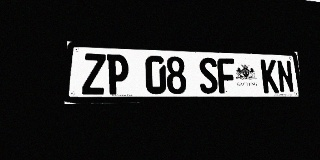0: (145, 55, 166, 94)
8: (166, 56, 187, 94)
F: (217, 58, 236, 93)
K: (260, 59, 279, 93)
N: (276, 60, 295, 93)
P: (106, 54, 129, 94)
S: (198, 57, 218, 94)
Z: (82, 53, 106, 95)
